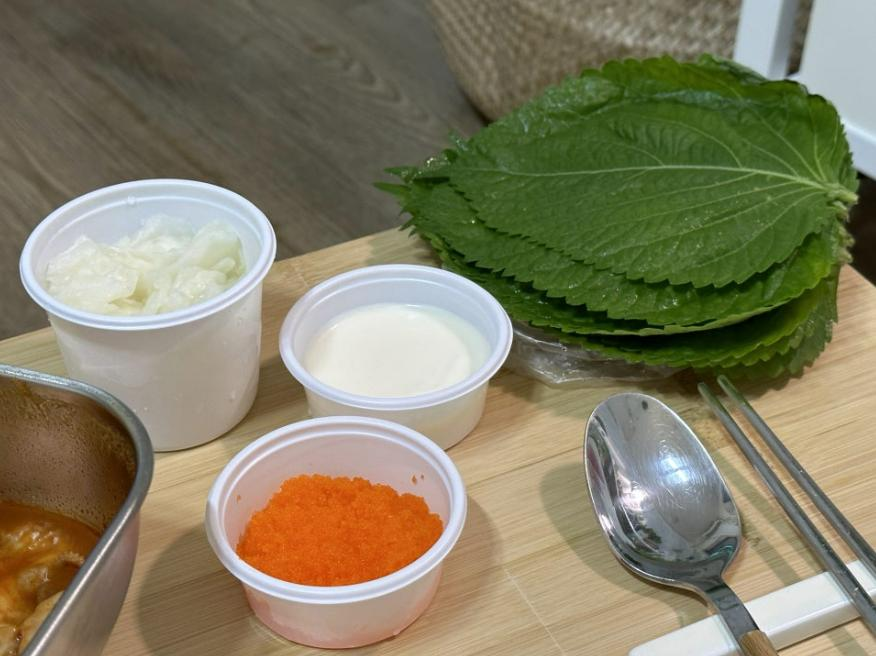Lunch Box: (20, 179, 275, 450), (205, 416, 466, 649), (0, 364, 153, 655), (280, 265, 511, 448)
